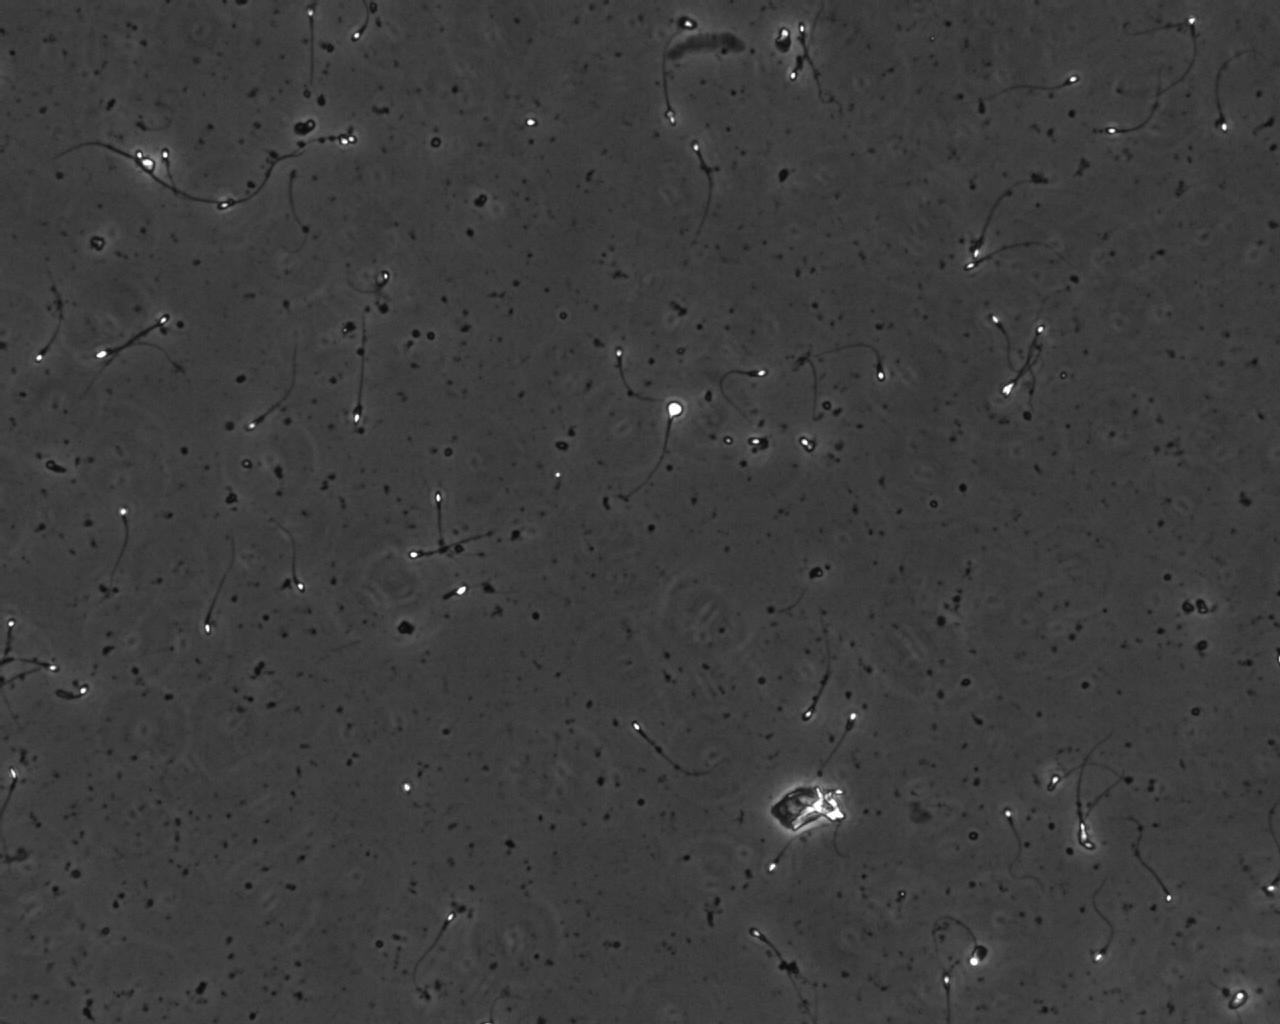cell: (759, 11, 810, 62), (807, 3, 835, 30), (797, 48, 823, 77)
